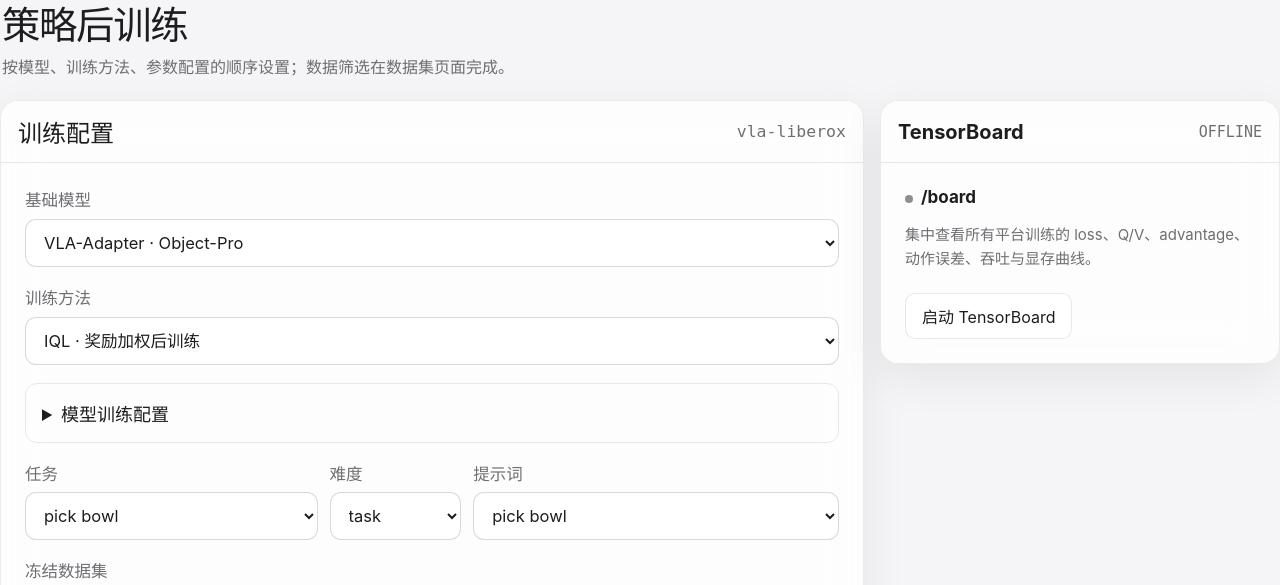
Scenario: dataset-pinned training reward › prevents all-frozen training and hides LoRA controls in full mode
Click the heading "模型训练配置" at point(115, 415), box [61,404,169,426]
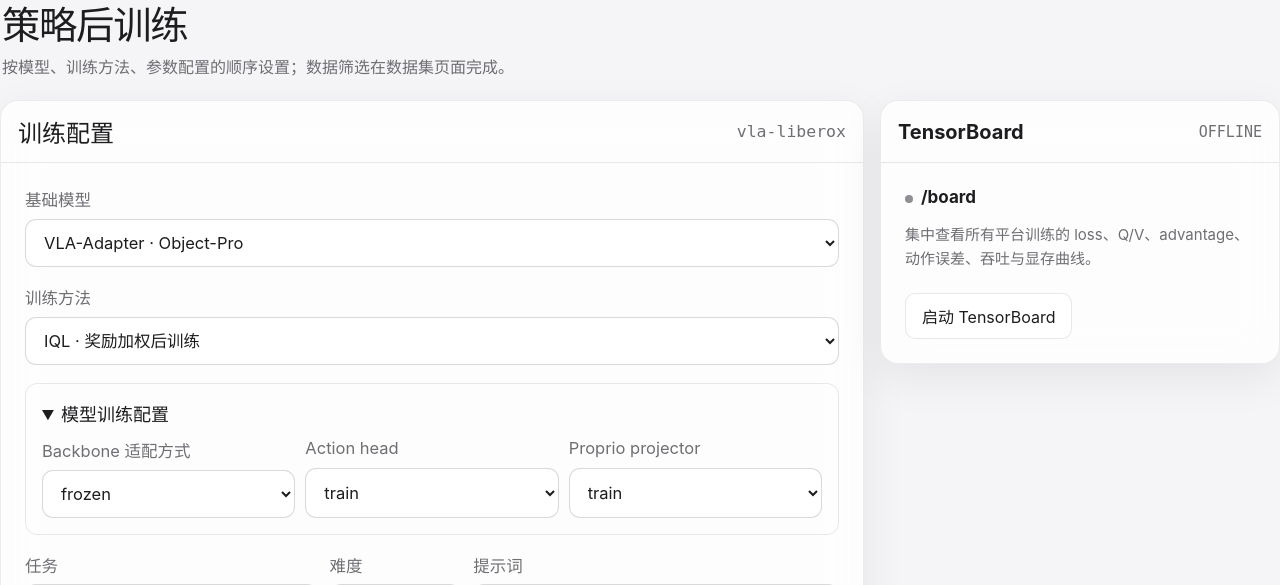
Select "frozen" in the dropdown labelled "Action head" at point(432, 494), box [305,468,559,518]
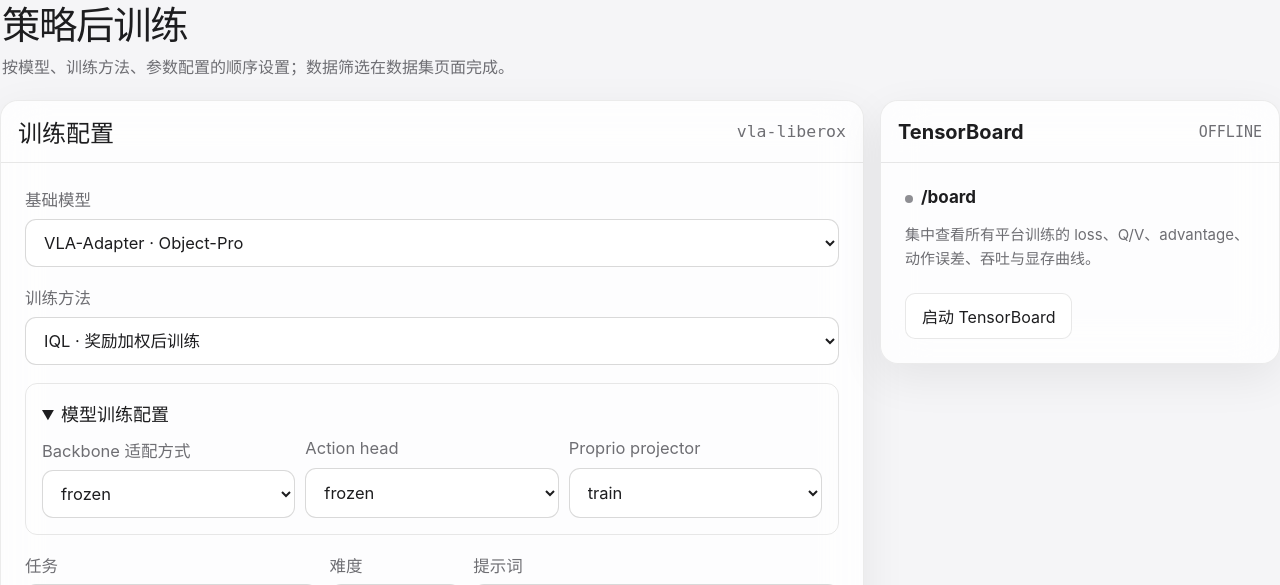
Select "frozen" in the dropdown labelled "Proprio projector" at point(695, 494), box [569,468,822,518]
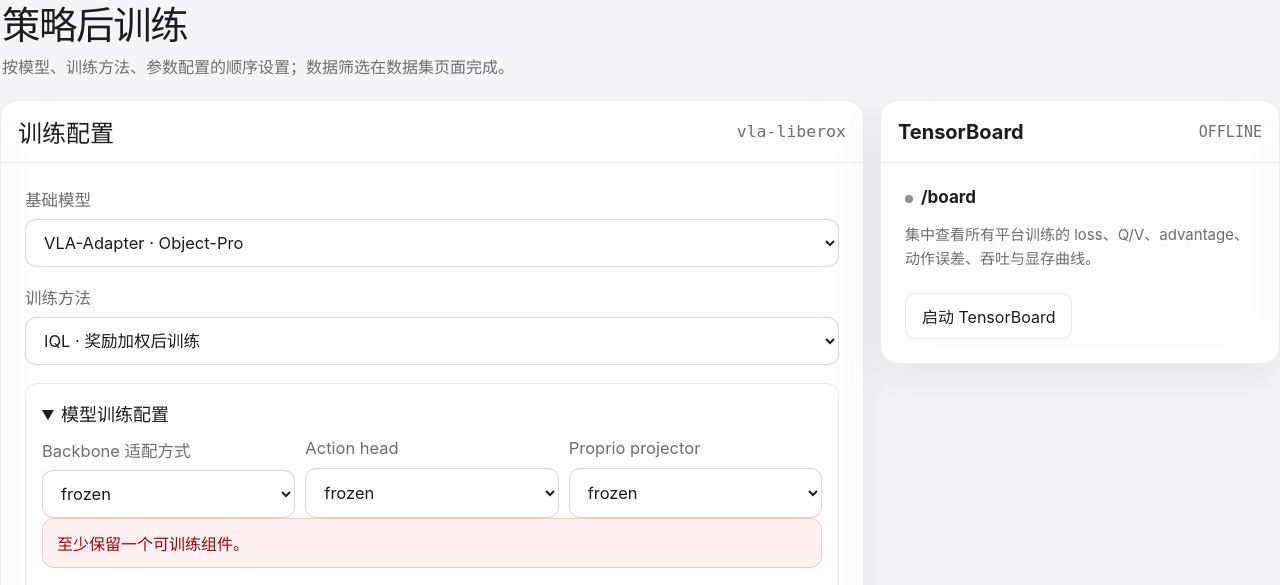
Now the message shows "至少保留一个", box [57,534,249,554]
Select "full" in the dropdown labelled "Backbone 适配方式" at point(169, 494), box [42,470,295,518]
(page scrolled)
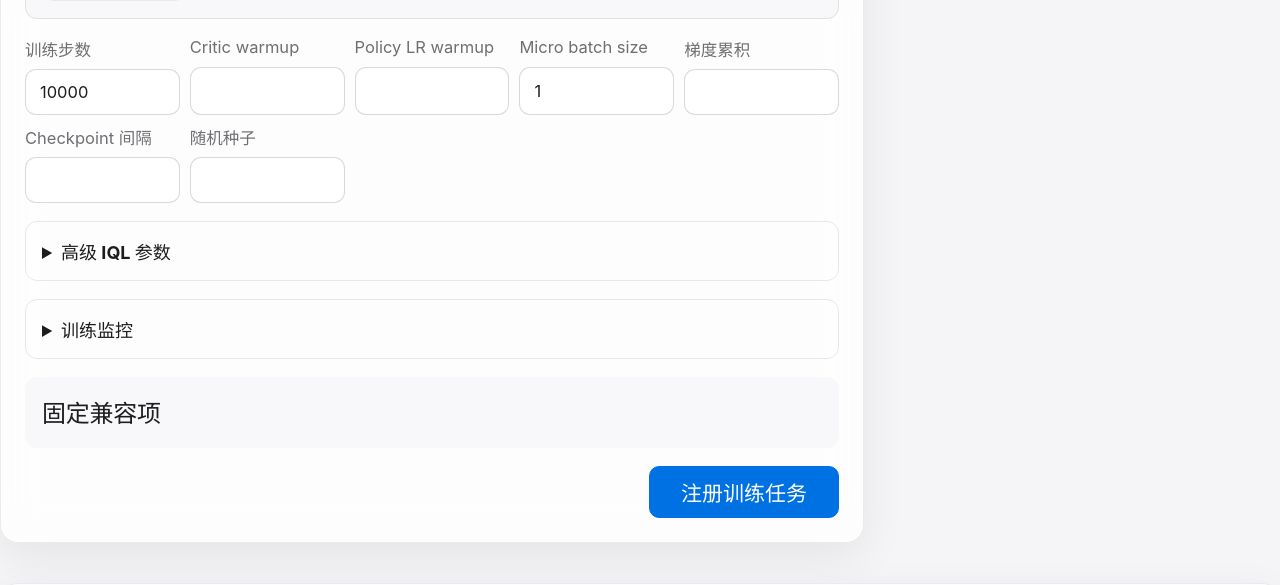
Now the button "注册训练任务" is enabled, box [649,466,839,518]
